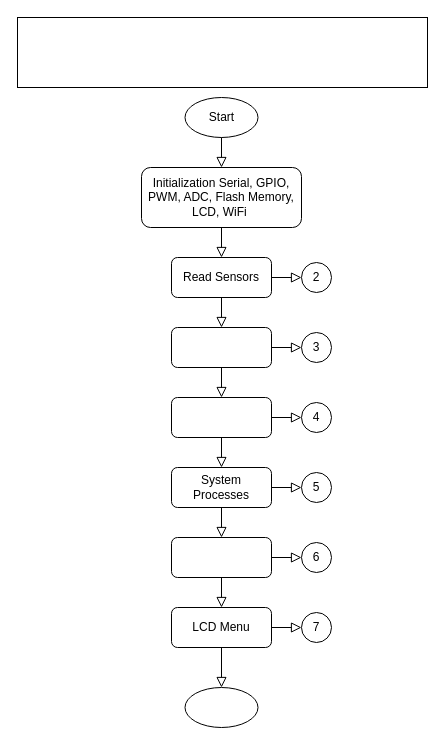
The diagram is 445 pixels wide and 745 high, and some of its shapes have lost their labels. Here are the shapes that lost their labels. From the top down, the centre of each, then its label:
(x=222, y=52): FIRMWARE MPPT Solar Charge Controller Ahmad Hanif Abiyyu Khrisna
(x=221, y=347): Device Protection
(x=221, y=417): Charging Algorithm
(x=221, y=557): Onboard Telemetry
(x=221, y=707): End
